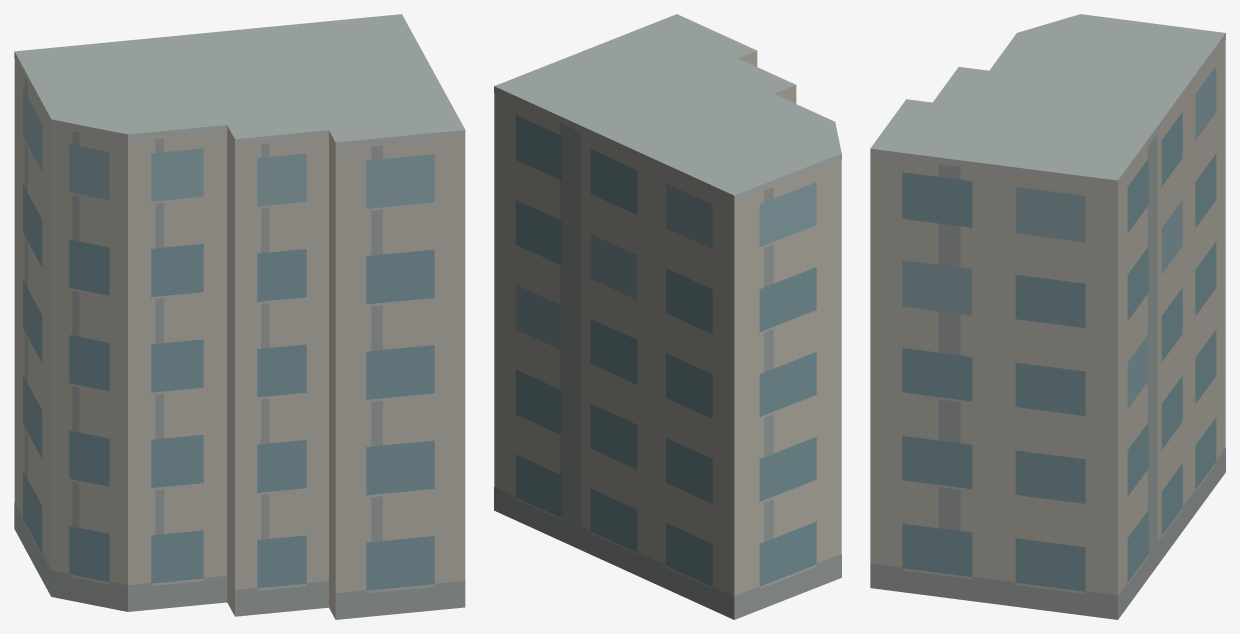
File: survey-upis-32508925.glb
The picture shows the model from 3 angles, left to right: view 1: azimuth 30°, elevation 25°; view 2: azimuth 150°, elevation 25°; view 3: azimuth 270°, elevation 25°; orthographic projection. The views are drawn at different scales.
Parts seen in each view (by area): view 1: survey-upis-32508925.tmp; view 2: survey-upis-32508925.tmp; view 3: survey-upis-32508925.tmp.
Part boxes in pixels (x1,y1,x2,y2): survey-upis-32508925.tmp: (14, 14, 465, 619); survey-upis-32508925.tmp: (494, 14, 841, 619); survey-upis-32508925.tmp: (870, 14, 1225, 619).
Size of the model in its own units: 12.53 by 15.4 by 11.31.
